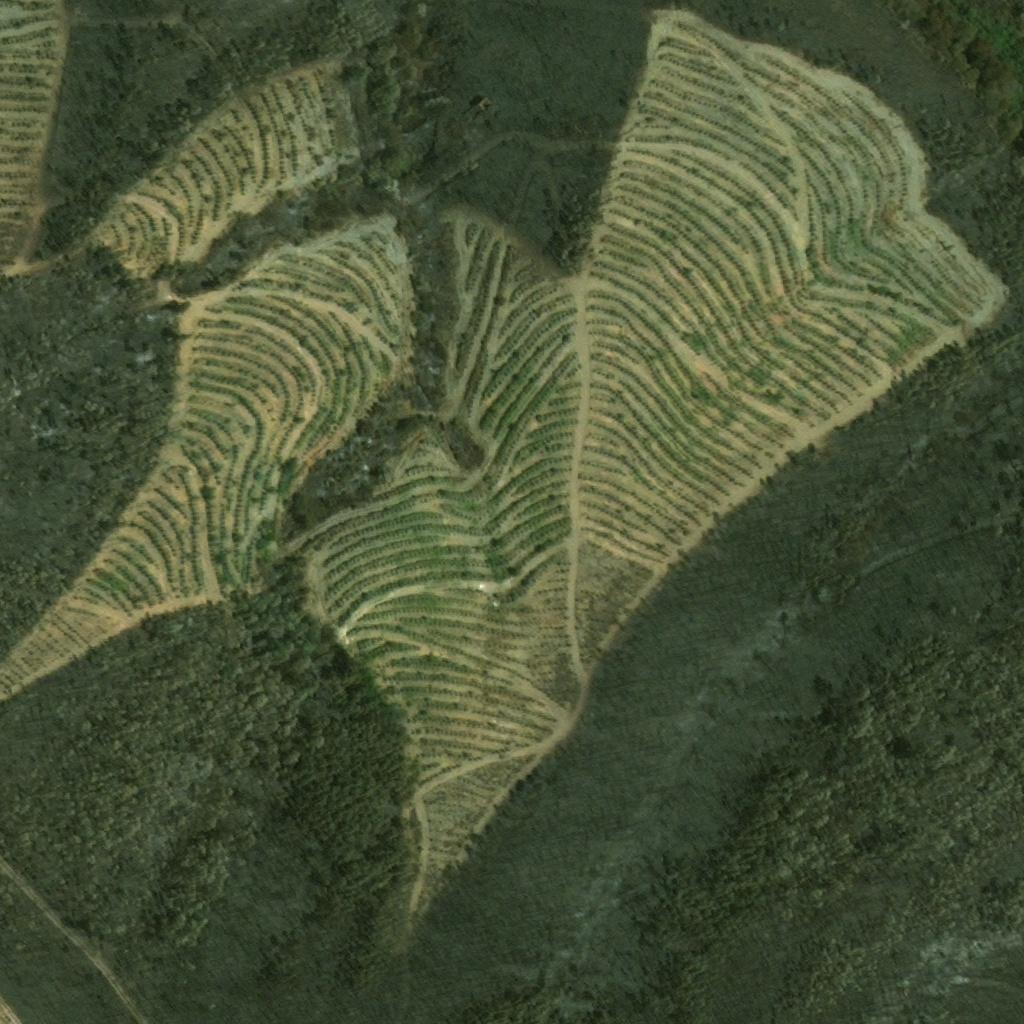3 destroyed: (471, 98, 489, 114)
